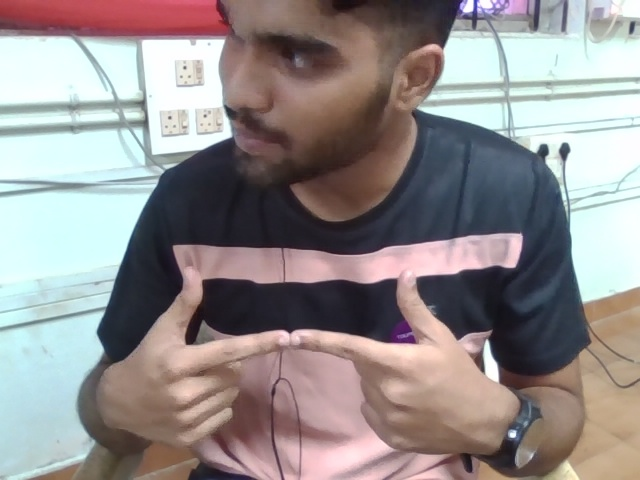hurt: (108, 244, 489, 469)
